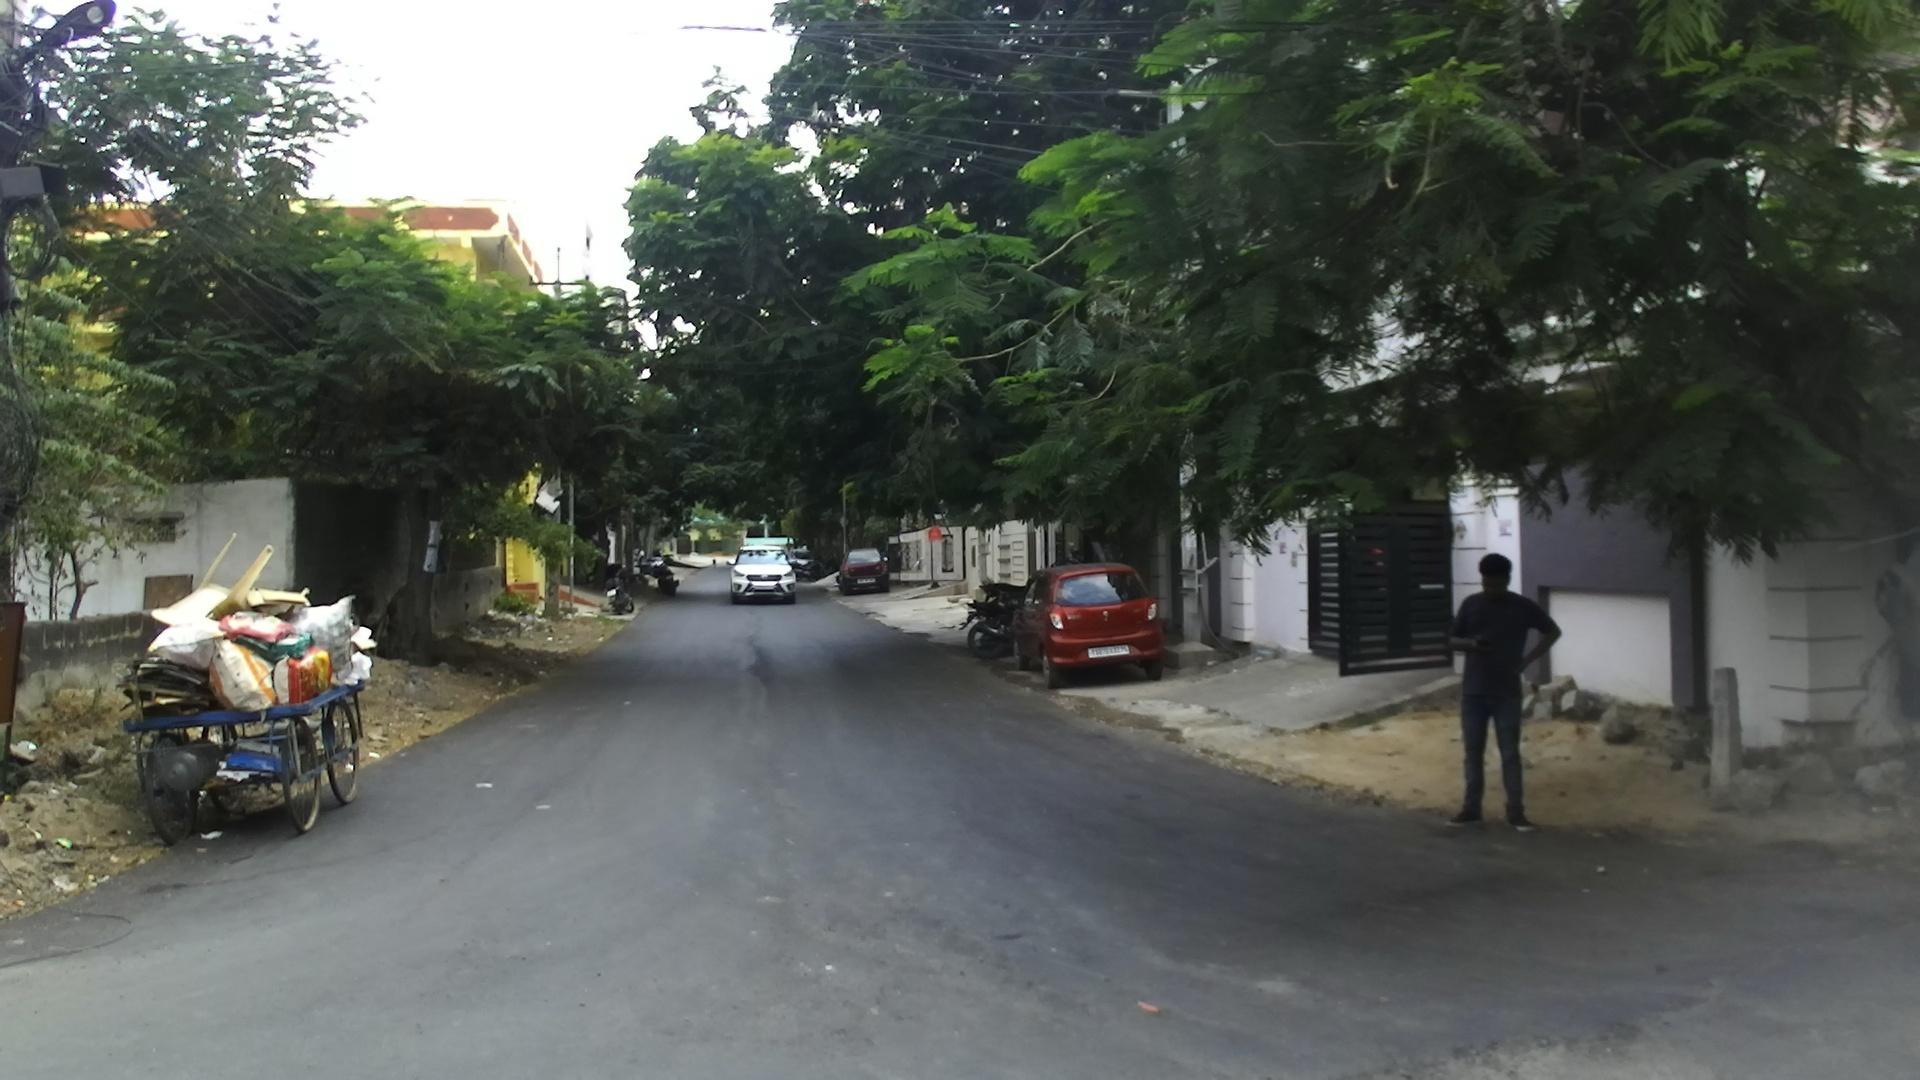vehicle: (127, 595, 380, 847), (1007, 564, 1172, 684), (728, 541, 796, 603), (837, 551, 890, 593), (642, 555, 676, 595)
